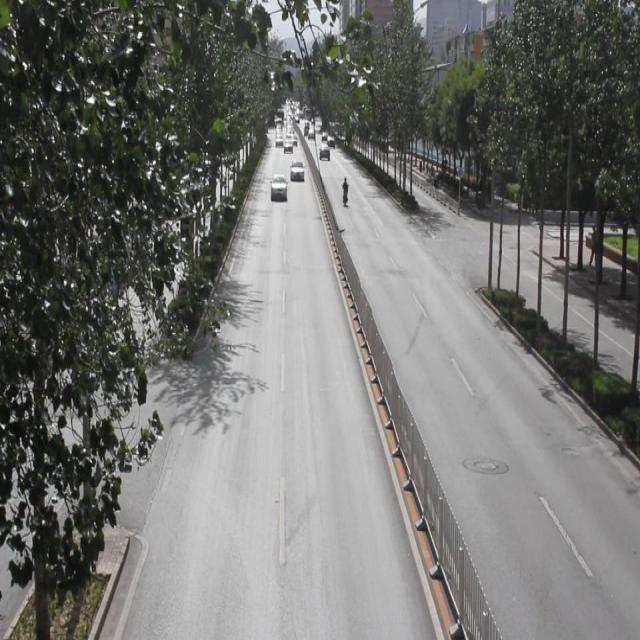car: (269, 176, 287, 197), (289, 160, 305, 178)
